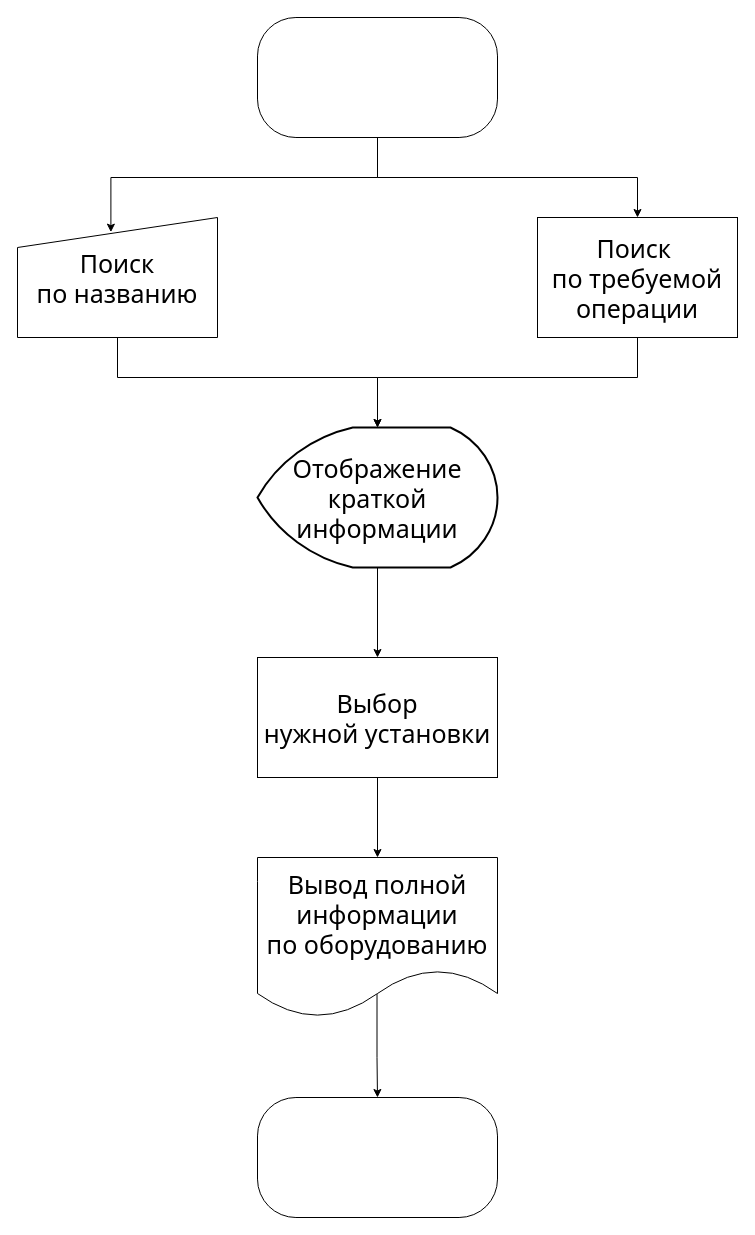
This 755x1235 diagram has some shape labels left out. Here are the shapes that lost their labels. From the top down, the box of each, then its label:
(256, 16, 498, 138): НАЧАЛО
(256, 1096, 498, 1218): КОНЕЦ
